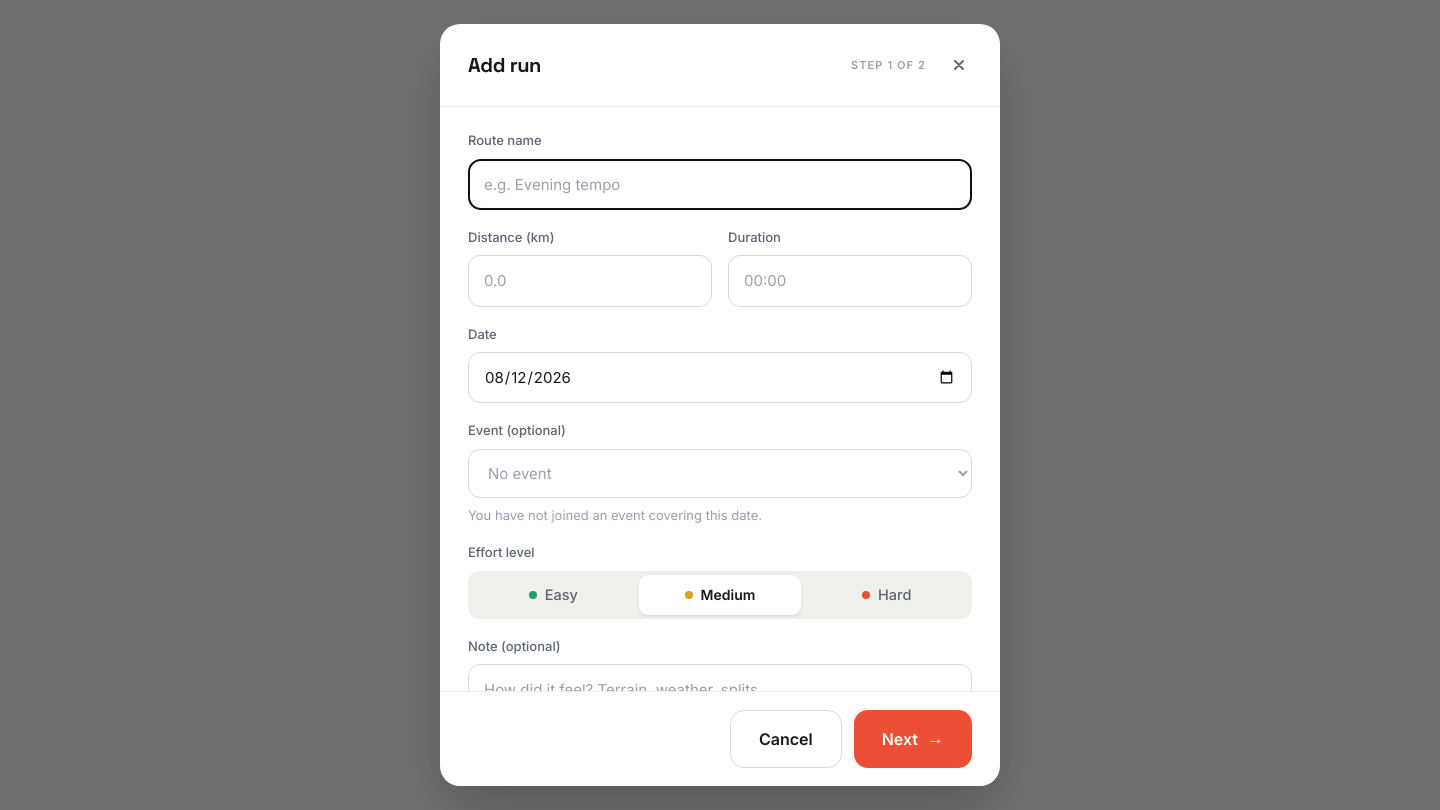
Test: Add run modal (RUN-23) › refuses to save distance 0 and says so inline (AC4)
This screenshot has width=1440, height=810.
Type "Evening tempo" into the field labelled "Route name" at {"x": 720, "y": 184}, box [468,158,972,210]
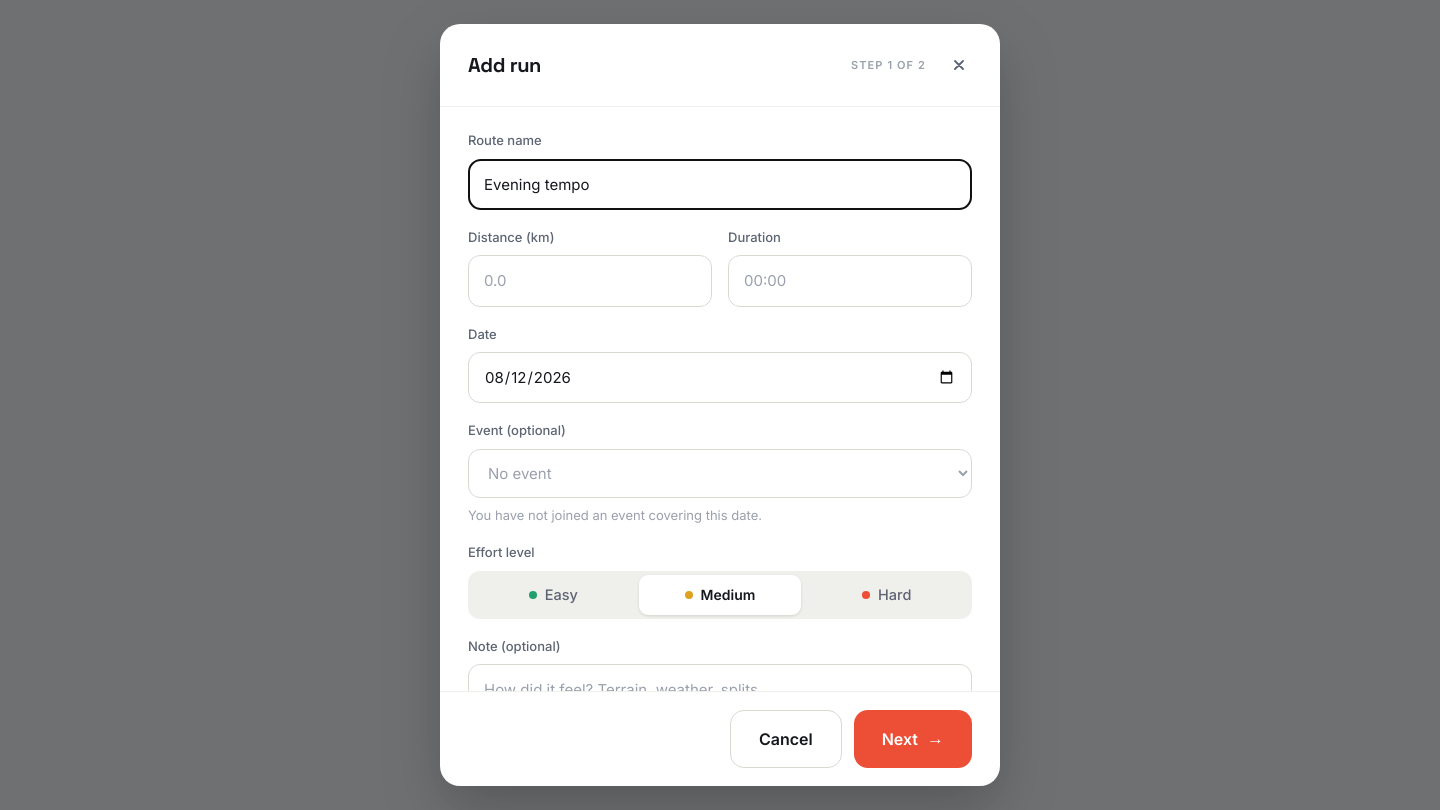
Type "8.2" into the field labelled "Distance (km)" at {"x": 590, "y": 281}, box [468,255,712,307]
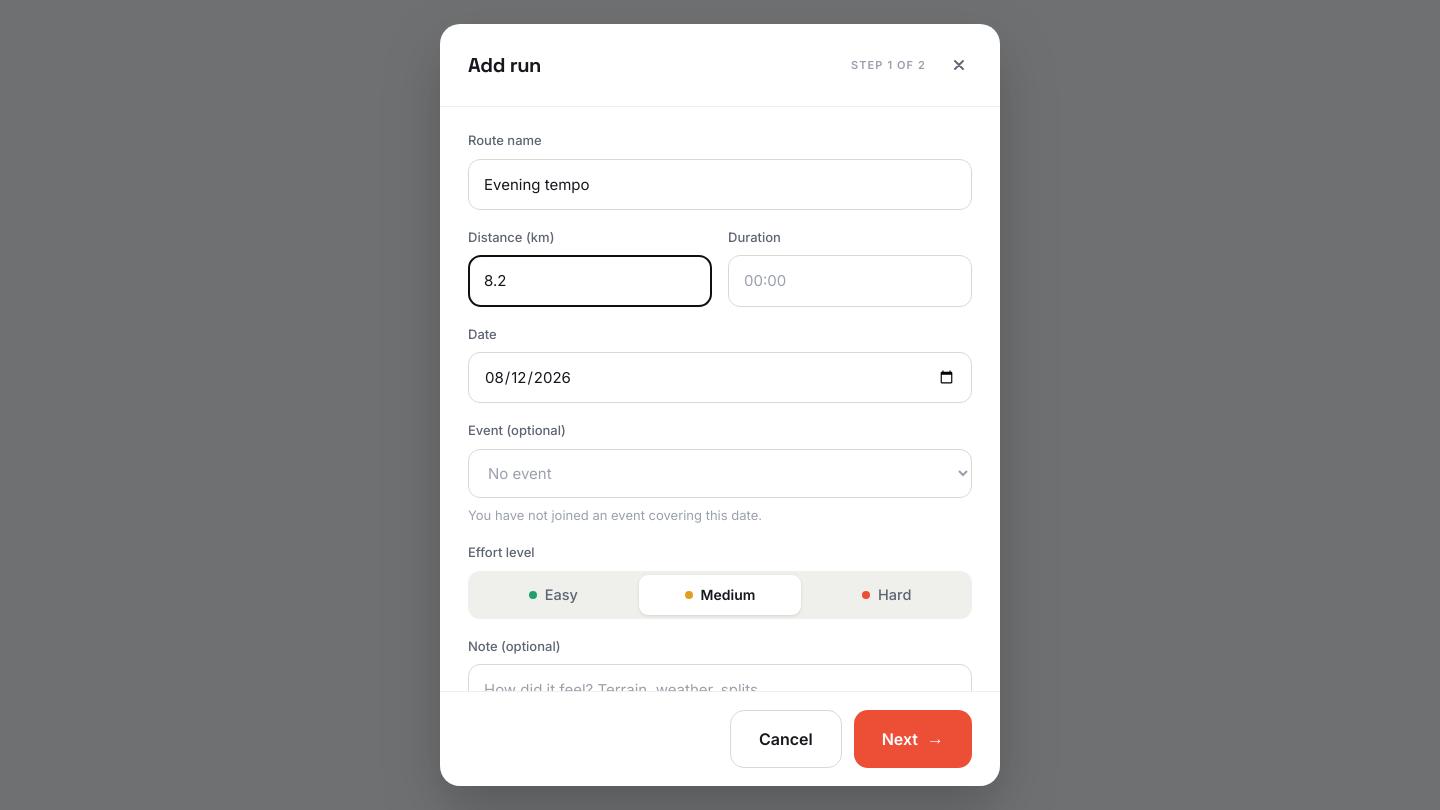
Type "42:15" into the field labelled "Duration" at {"x": 850, "y": 281}, box [728,255,972,307]
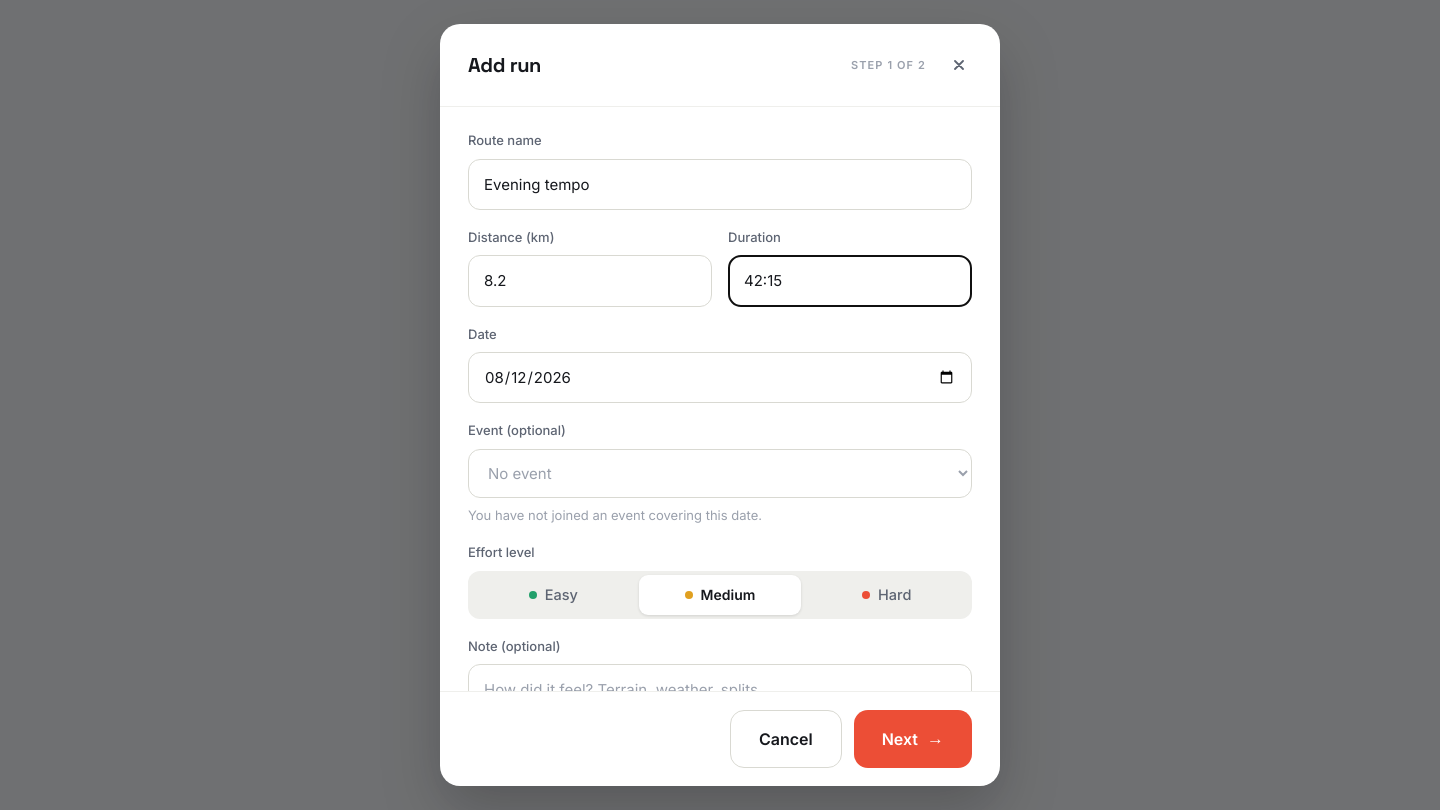
Replace the text in the field labelled "Distance (km)" with "0" at {"x": 590, "y": 281}, box [468,255,712,307]
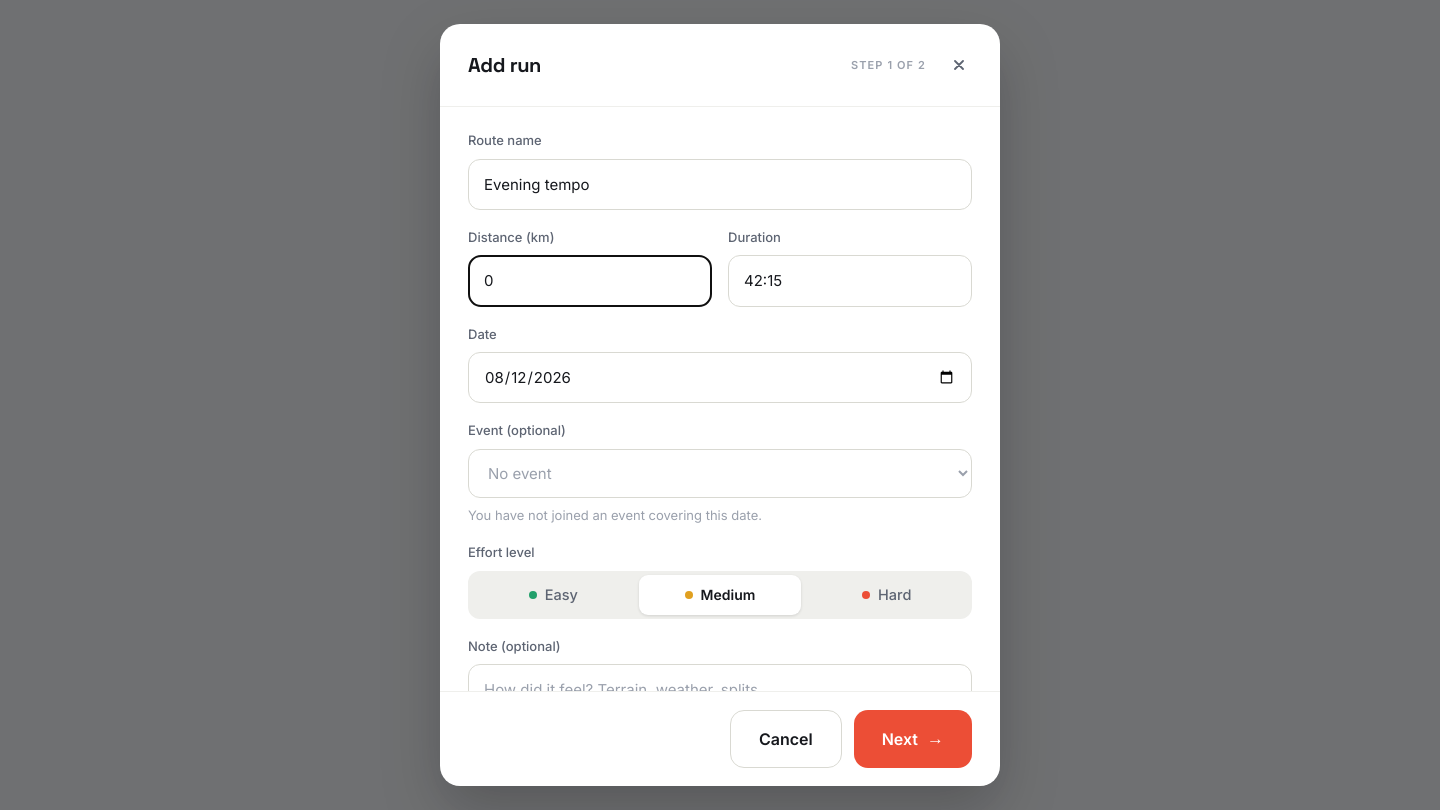
Click the button "Next →" at {"x": 913, "y": 739}, box [854,710,972,768]
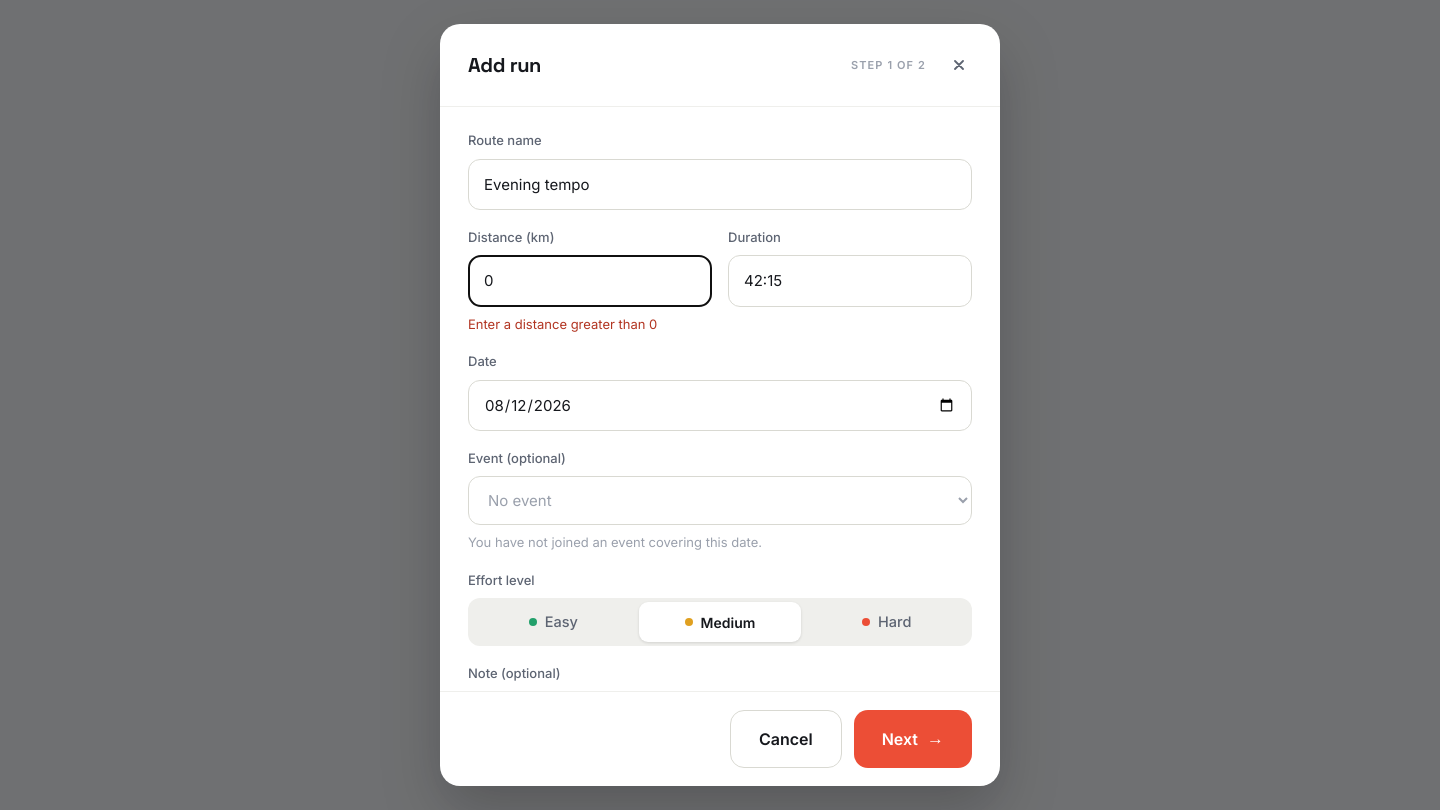
Check: the message "Enter a distance greater than 0" is shown, box [468,316,657,332]
